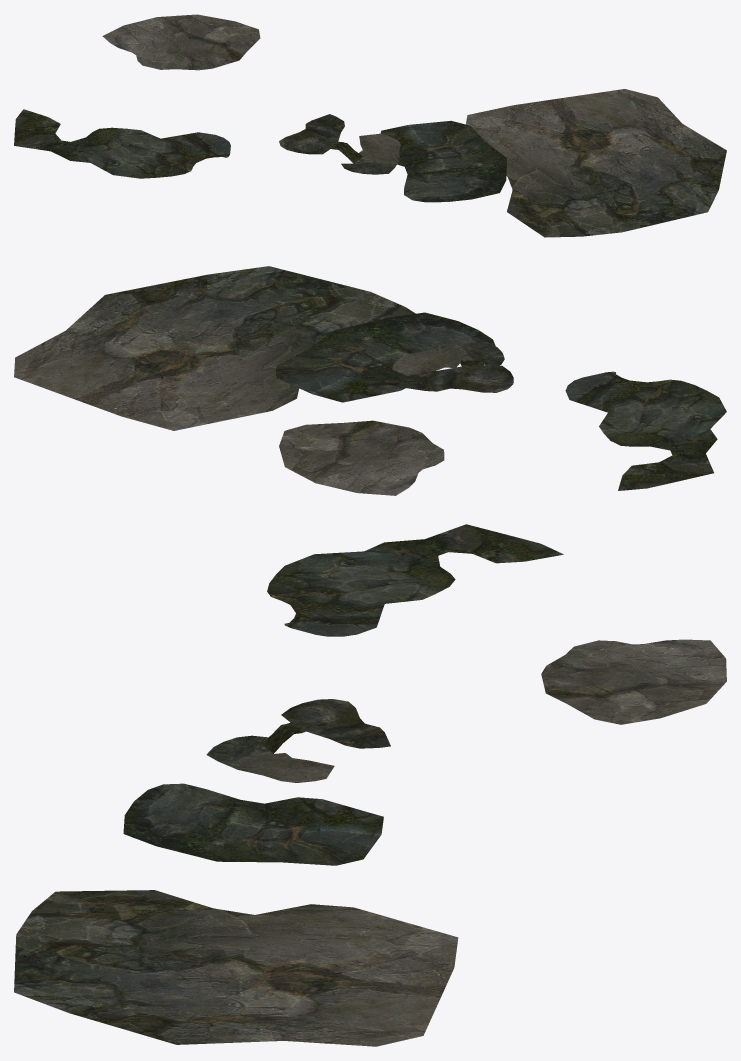
File: MOD_dimian.FBX
3 renders of one model, top to bottom at view 1: azimuth 30°, elevation 25°; view 2: azimuth 150°, elevation 25°; view 3: azimuth 270°, elevation 25°, orthographic. The views are drawn at different scales.
Visible parts, largest first — view 1: Object2152; view 2: Object2152; view 3: Object2152.
Boxes of the visible parts, x1,y1,x2,y2 form: Object2152: (14,14,726,237); Object2152: (14,266,726,495); Object2152: (14,524,726,1046).
Size of the model in its own units: 179 by 22.19 by 130.
